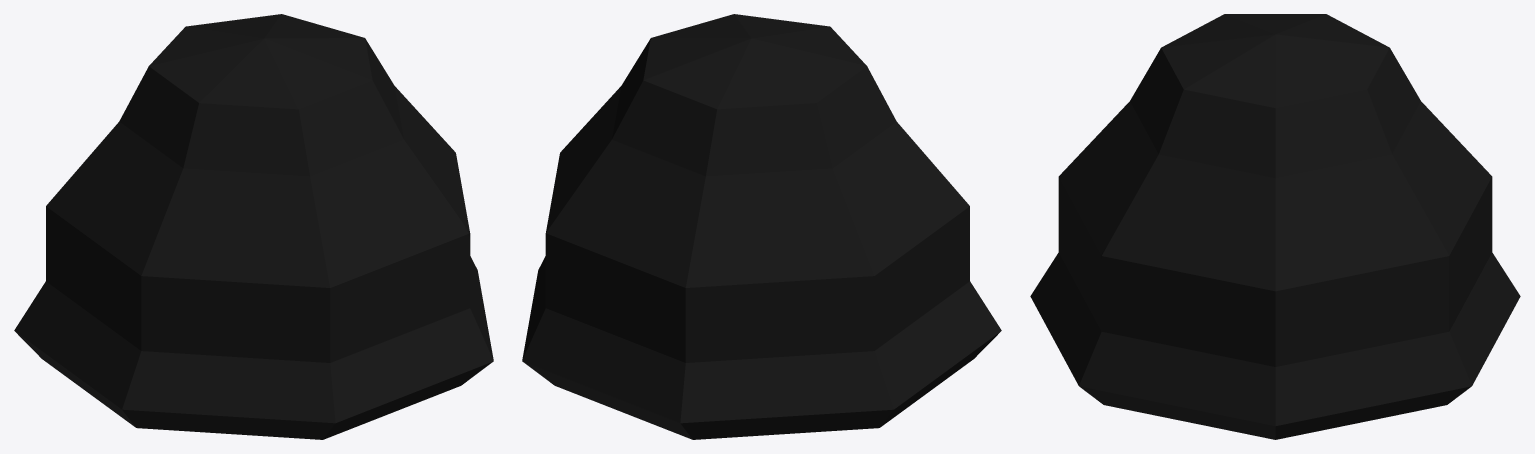
File: Trash_Bag02.fbx
3 views of the same model, side by side, from view 1: azimuth 30°, elevation 25°; view 2: azimuth 150°, elevation 25°; view 3: azimuth 270°, elevation 25° (orthographic).
Visible parts, largest first — view 1: TrashBag02; view 2: TrashBag02; view 3: TrashBag02.
Part boxes in pixels (x1,y1,x2,y2): TrashBag02: (14,14,493,439); TrashBag02: (522,14,1001,439); TrashBag02: (1030,14,1520,439).
Bounding box in the file's own units: 8.5 × 6.49 × 8.71.
